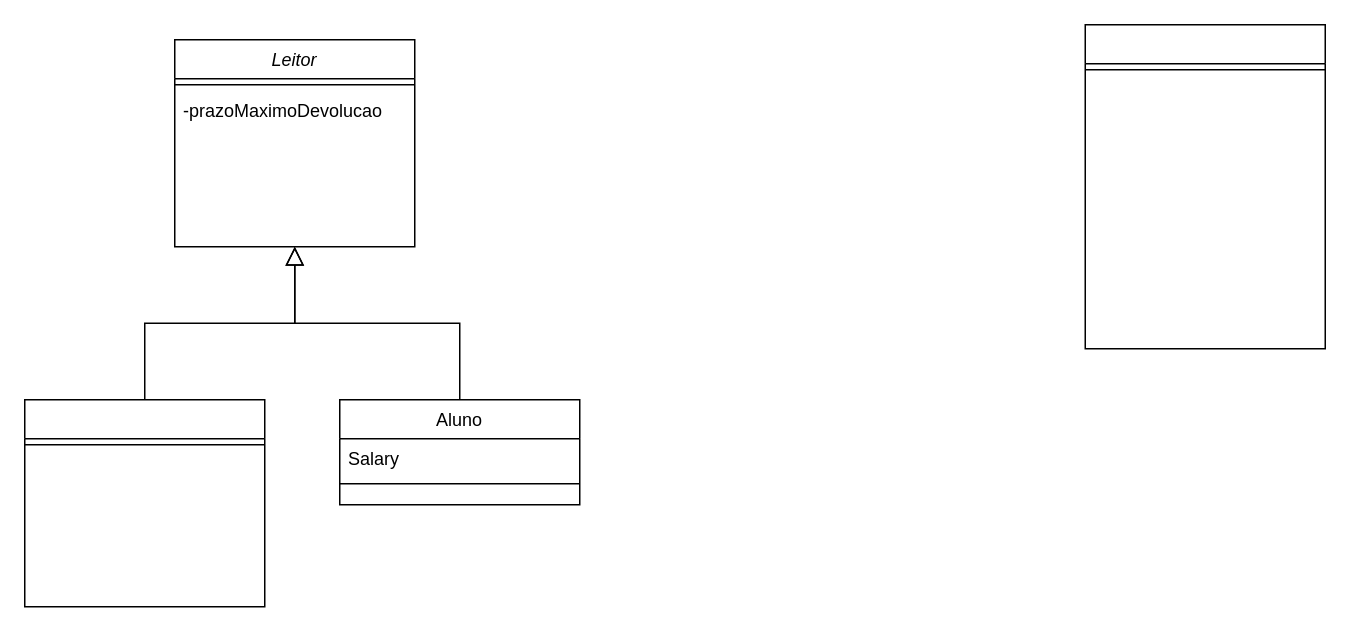
This 1350x632 diagram has some shape labels left out. Here are the shapes that lost their labels. From the top down, the centre of each, then its label:
the point at 1204,186: Exemplar
the point at 144,502: Professor
